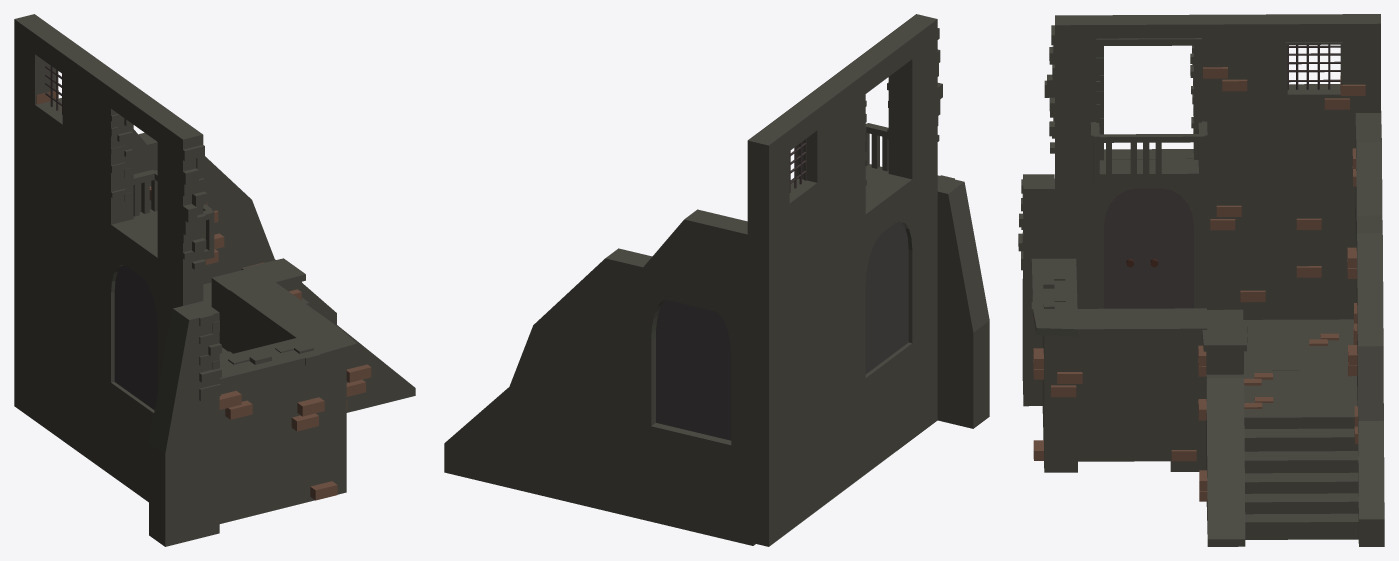
Rendered from RuinsA.fbx.
The picture shows the model from 3 angles, left to right: view 1: azimuth 30°, elevation 25°; view 2: azimuth 150°, elevation 25°; view 3: azimuth 270°, elevation 25°; orthographic projection. The views are drawn at different scales.
Parts seen in each view (by area): view 1: Cube.079, Cube.096, Cube.076, Cube.095, Cube.077, Cube.078; view 2: Cube.079, Cube.076, Cube.075, Cube.077, Cube.078; view 3: Cube.079, Cube.095, Cube.096, Cube.076, Cube.077, Cube.078.
Boxes of the visible parts, left/top/right/bottom form: Cube.079: left=14, top=14, right=221, bottom=546; Cube.096: left=219, top=279, right=357, bottom=523; Cube.076: left=58, top=98, right=336, bottom=324; Cube.095: left=203, top=258, right=415, bottom=412; Cube.077: left=114, top=265, right=157, bottom=409; Cube.078: left=132, top=169, right=214, bottom=259; Cube.079: left=747, top=14, right=989, bottom=546; Cube.076: left=444, top=209, right=755, bottom=545; Cube.075: left=656, top=300, right=731, bottom=440; Cube.077: left=865, top=221, right=908, bottom=374; Cube.078: left=865, top=123, right=890, bottom=192; Cube.079: left=1018, top=14, right=1380, bottom=406; Cube.095: left=1202, top=309, right=1358, bottom=546; Cube.096: left=1031, top=258, right=1207, bottom=472; Cube.076: left=1355, top=111, right=1384, bottom=546; Cube.077: left=1104, top=188, right=1193, bottom=308; Cube.078: left=1090, top=121, right=1207, bottom=182.
Bounding box in the file's own units: 1267 × 1369 × 1185.
